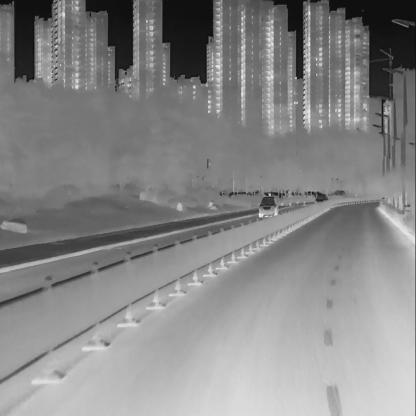car: (258, 194, 278, 219), (332, 188, 346, 200), (314, 192, 328, 204)
